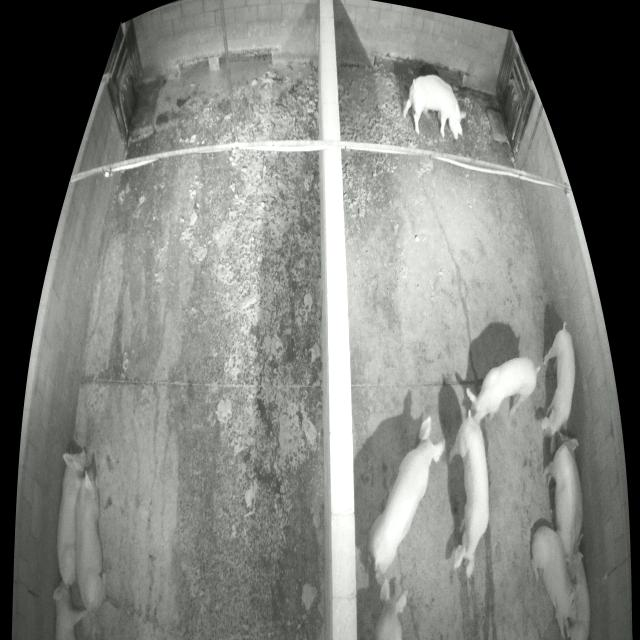pig: (368, 416, 446, 574), (448, 414, 489, 578), (532, 525, 580, 637), (75, 466, 107, 614), (542, 444, 583, 558), (466, 358, 537, 422), (56, 449, 88, 588), (403, 75, 467, 140), (542, 331, 575, 436), (374, 575, 407, 639), (566, 553, 590, 639), (53, 581, 87, 639)
